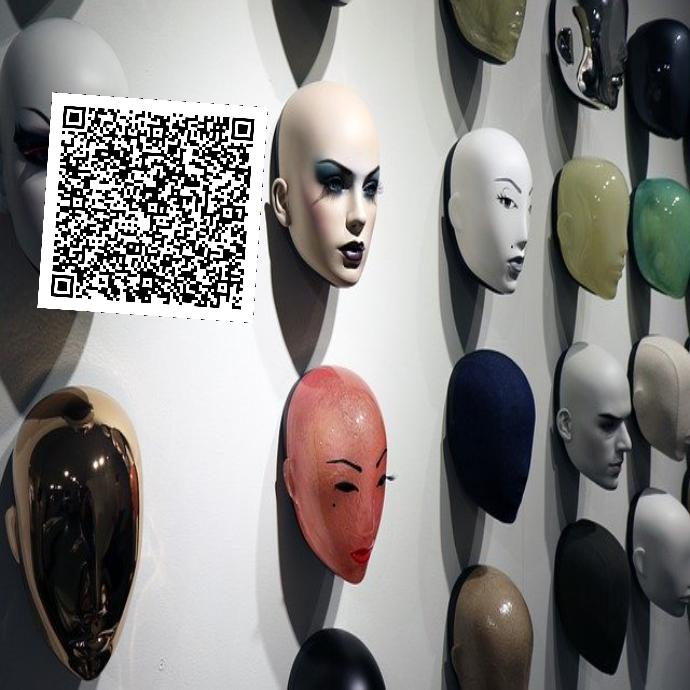qr_code: (37, 92, 267, 322)
